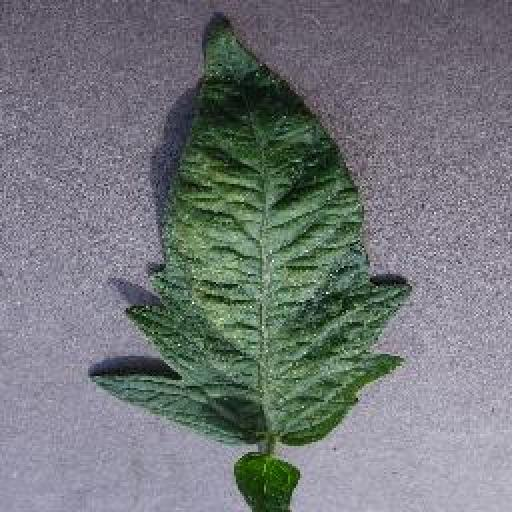disease_tomato: (92, 18, 412, 446)
